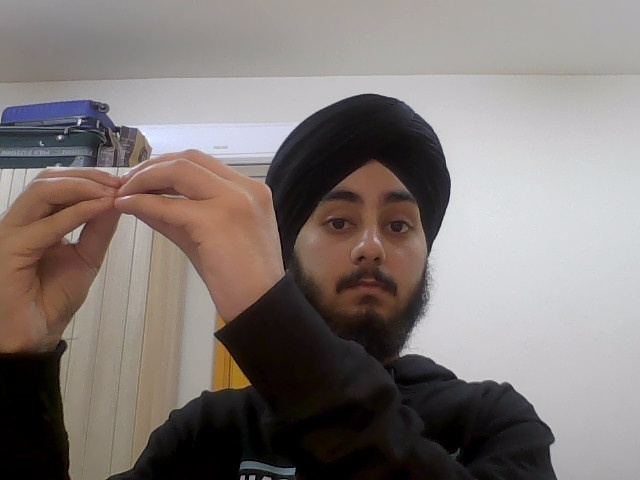More: (1, 147, 288, 347)
